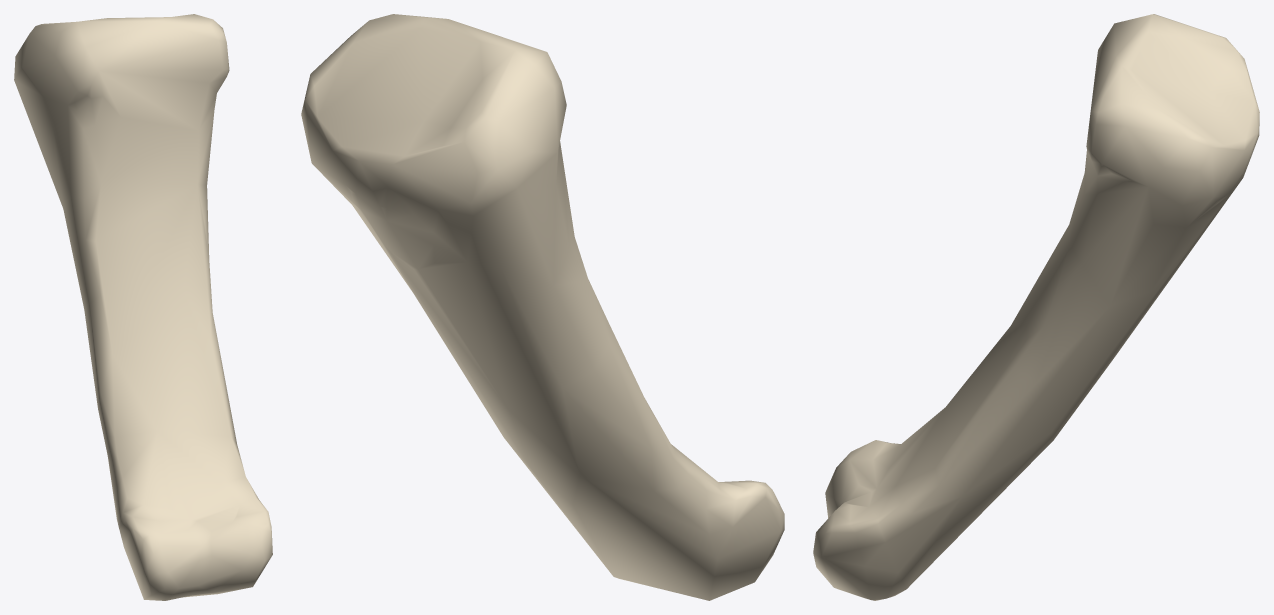
File: proximal-phalanx-of-third-finger-of-hand-r.glb
3 views of the same model, side by side, from view 1: azimuth 30°, elevation 25°; view 2: azimuth 150°, elevation 25°; view 3: azimuth 270°, elevation 25° (orthographic). The views are drawn at different scales.
Visible parts, largest first — view 1: Proximal phalanx of third finger of hand.r; view 2: Proximal phalanx of third finger of hand.r; view 3: Proximal phalanx of third finger of hand.r.
Boxes of the visible parts, x1,y1,x2,y2 form: Proximal phalanx of third finger of hand.r: (14,14,272,600); Proximal phalanx of third finger of hand.r: (301,14,784,600); Proximal phalanx of third finger of hand.r: (813,14,1259,600).
Bounding box in the file's own units: 0.019 × 0.0421 × 0.0302.
